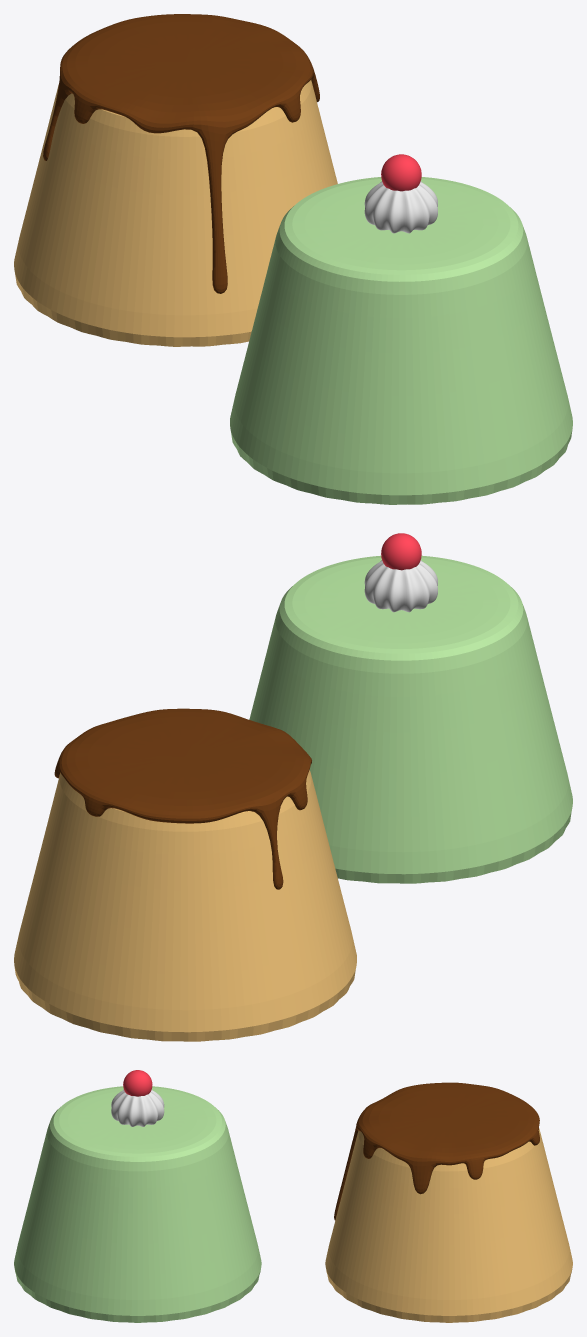
Rendered from Pudding Plate Plain FBX Export version.fbx.
3 renders of one model, top to bottom at view 1: azimuth 30°, elevation 25°; view 2: azimuth 150°, elevation 25°; view 3: azimuth 270°, elevation 25°, orthographic. The views are drawn at different scales.
Parts seen in each view (by area): view 1: Jello, Custard; view 2: Custard, Jello; view 3: Custard, Jello.
Part boxes in pixels (x1,y1,x2,y2): Jello: (230, 154, 572, 504); Custard: (14, 14, 337, 346); Custard: (14, 708, 356, 1041); Jello: (249, 533, 572, 883); Custard: (325, 1082, 572, 1322); Jello: (14, 1070, 261, 1322).
Bounding box in the file's own units: 200 × 180 × 451.
